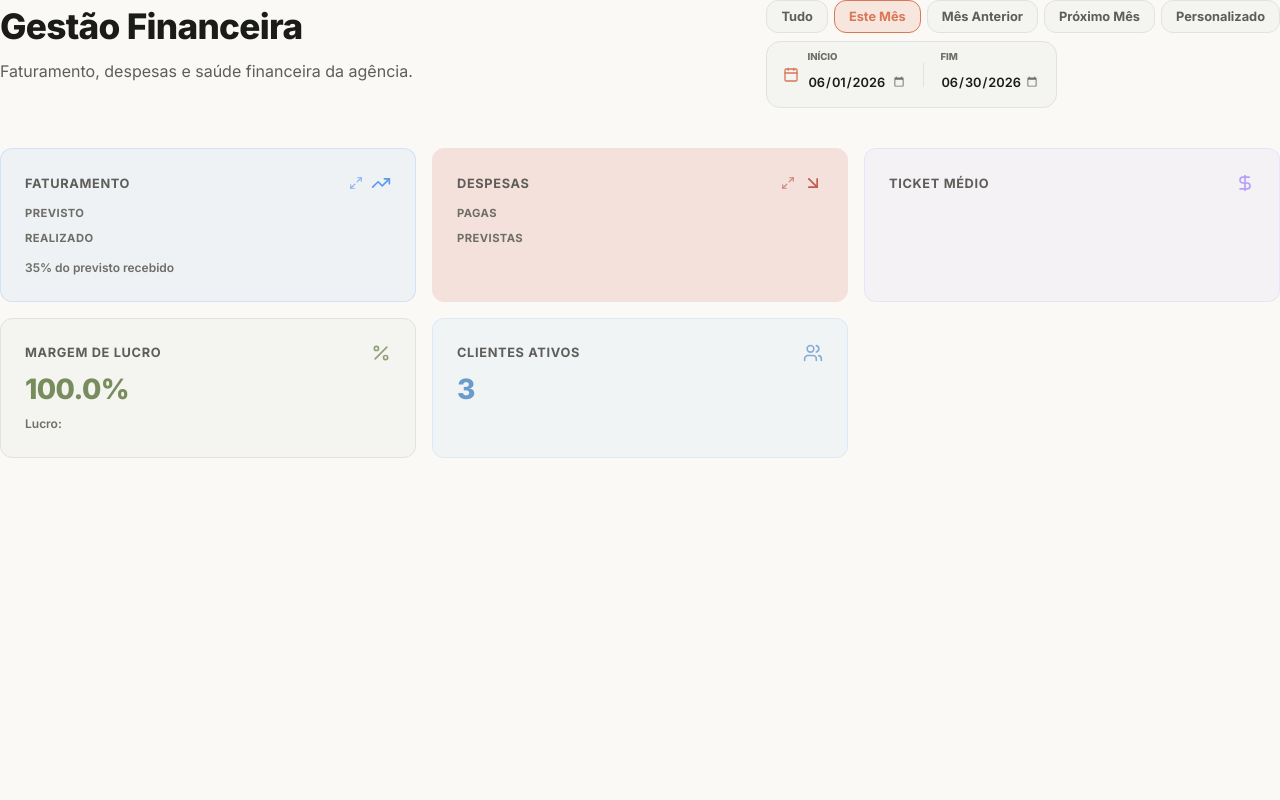
Scenario: FinancialKPIs — card Faturamento clicável › abre o diálogo detalhado ao clicar no card Faturamento
Check: the heading "Cobranças do Período" is not shown
Step 1. Click the text "Faturamento" → (78,183), box [25,174,130,193]
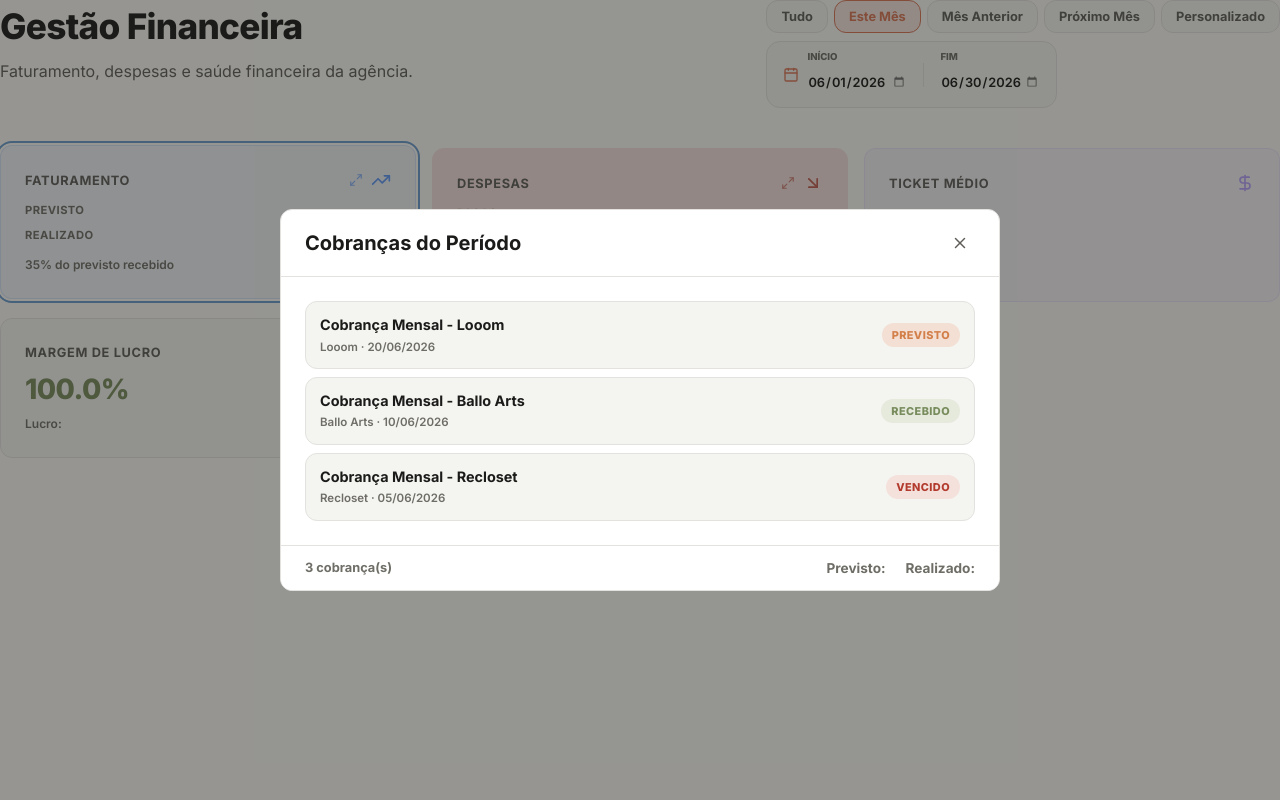
Check: the element "Cobranças do Período" is shown, box [280,209,1000,591]
